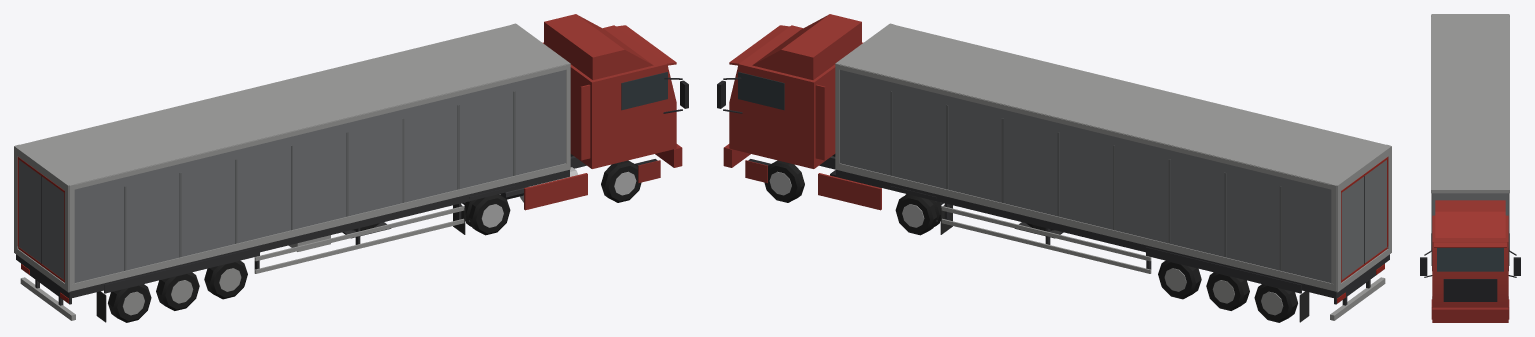
The model's file is SM_Prop_services_lorry_1_LOD1.glb.
3 renders of one model, left to right at view 1: azimuth 30°, elevation 25°; view 2: azimuth 150°, elevation 25°; view 3: azimuth 270°, elevation 25°, orthographic. The views are drawn at different scales.
Visible parts, largest first — view 1: SM_Prop_services_lorry_1_LOD1; view 2: SM_Prop_services_lorry_1_LOD1; view 3: SM_Prop_services_lorry_1_LOD1.
Boxes of the visible parts, <box> form: SM_Prop_services_lorry_1_LOD1: <box>14,14,688,322</box>; SM_Prop_services_lorry_1_LOD1: <box>717,14,1391,322</box>; SM_Prop_services_lorry_1_LOD1: <box>1420,14,1520,322</box>.
Size of the model in its own units: 16.69 by 3.97 by 3.3.
